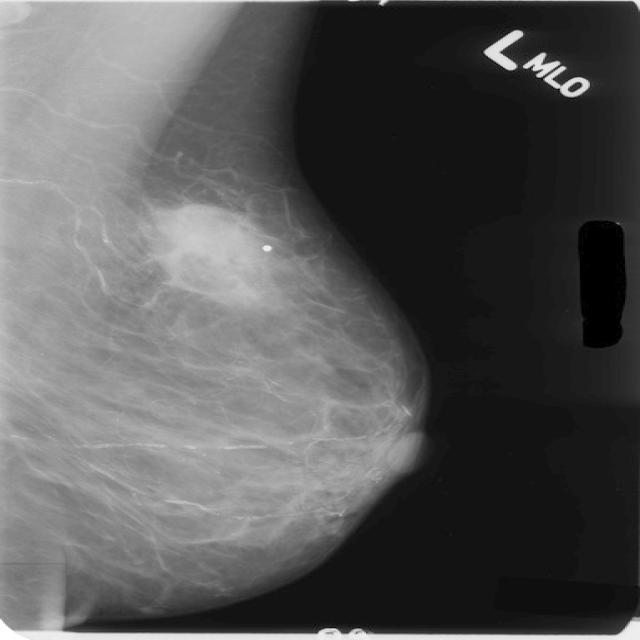tumour: (155, 202, 274, 300)
